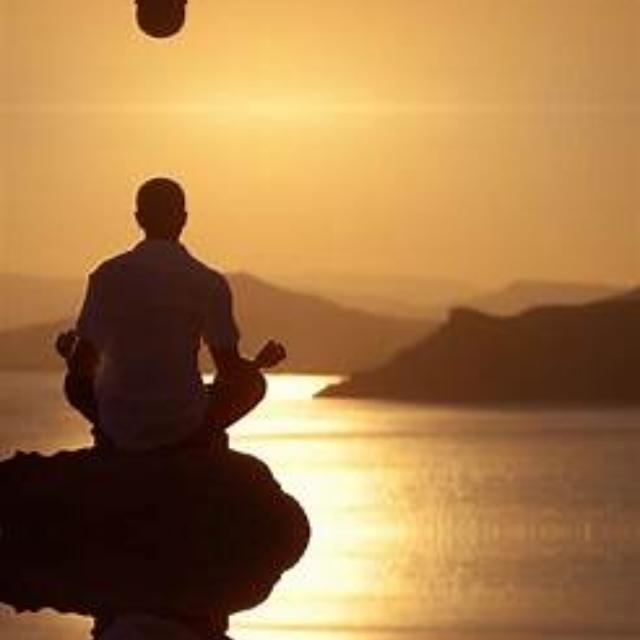person: (59, 164, 284, 448), (59, 0, 284, 50), (59, 615, 284, 640)
